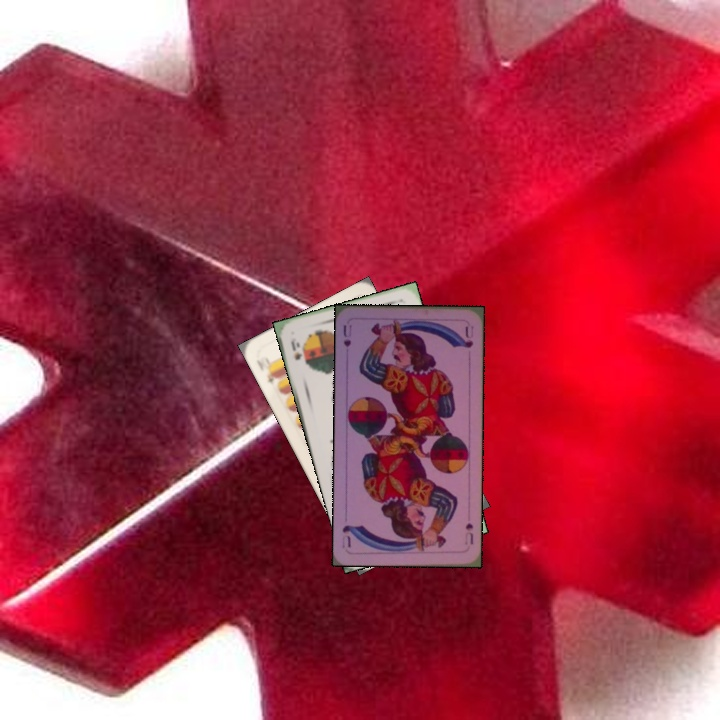E10: (260, 362, 281, 387)
SO: (287, 336, 309, 368)
SU: (339, 321, 354, 350), (461, 518, 476, 547)
